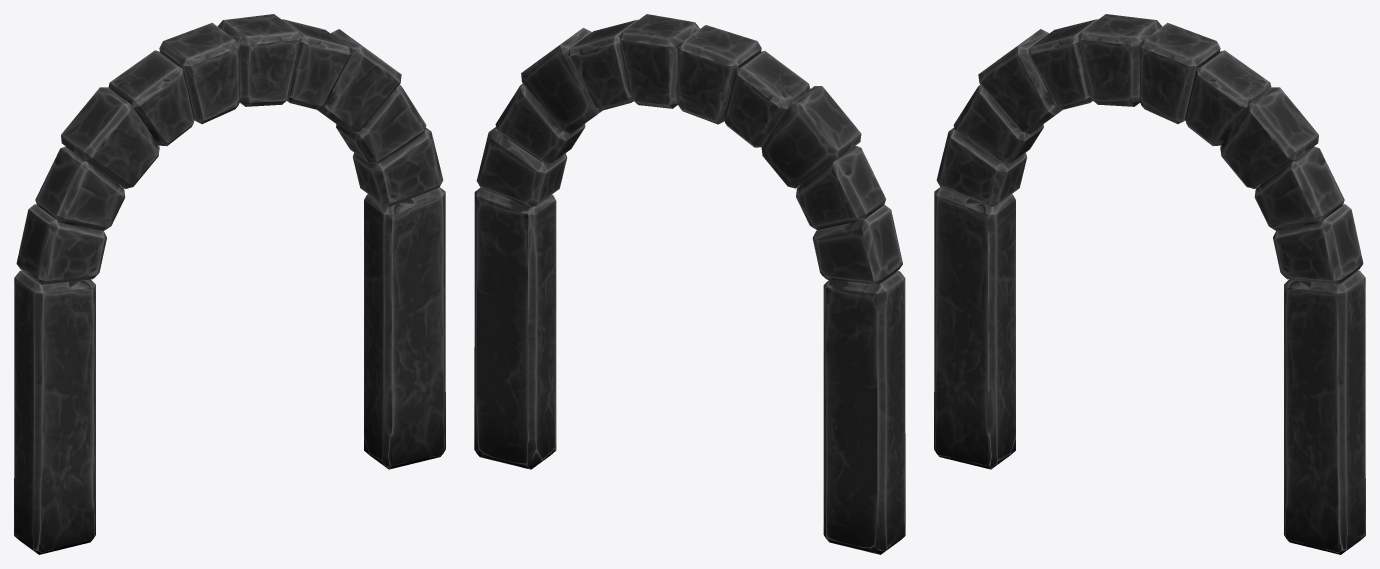
Rendered from F_Doors_Frame.fbx.
3 views of the same model, side by side, from view 1: azimuth 30°, elevation 25°; view 2: azimuth 150°, elevation 25°; view 3: azimuth 330°, elevation 25° (orthographic).
Visible parts, largest first — view 1: Plane.002; view 2: Plane.002; view 3: Plane.002.
Boxes of the visible parts, left/top/right/bottom form: Plane.002: left=14, top=14, right=445, bottom=554; Plane.002: left=474, top=14, right=905, bottom=554; Plane.002: left=934, top=14, right=1365, bottom=554.
Size of the model in its own units: 2.76 by 3 by 0.3652.
